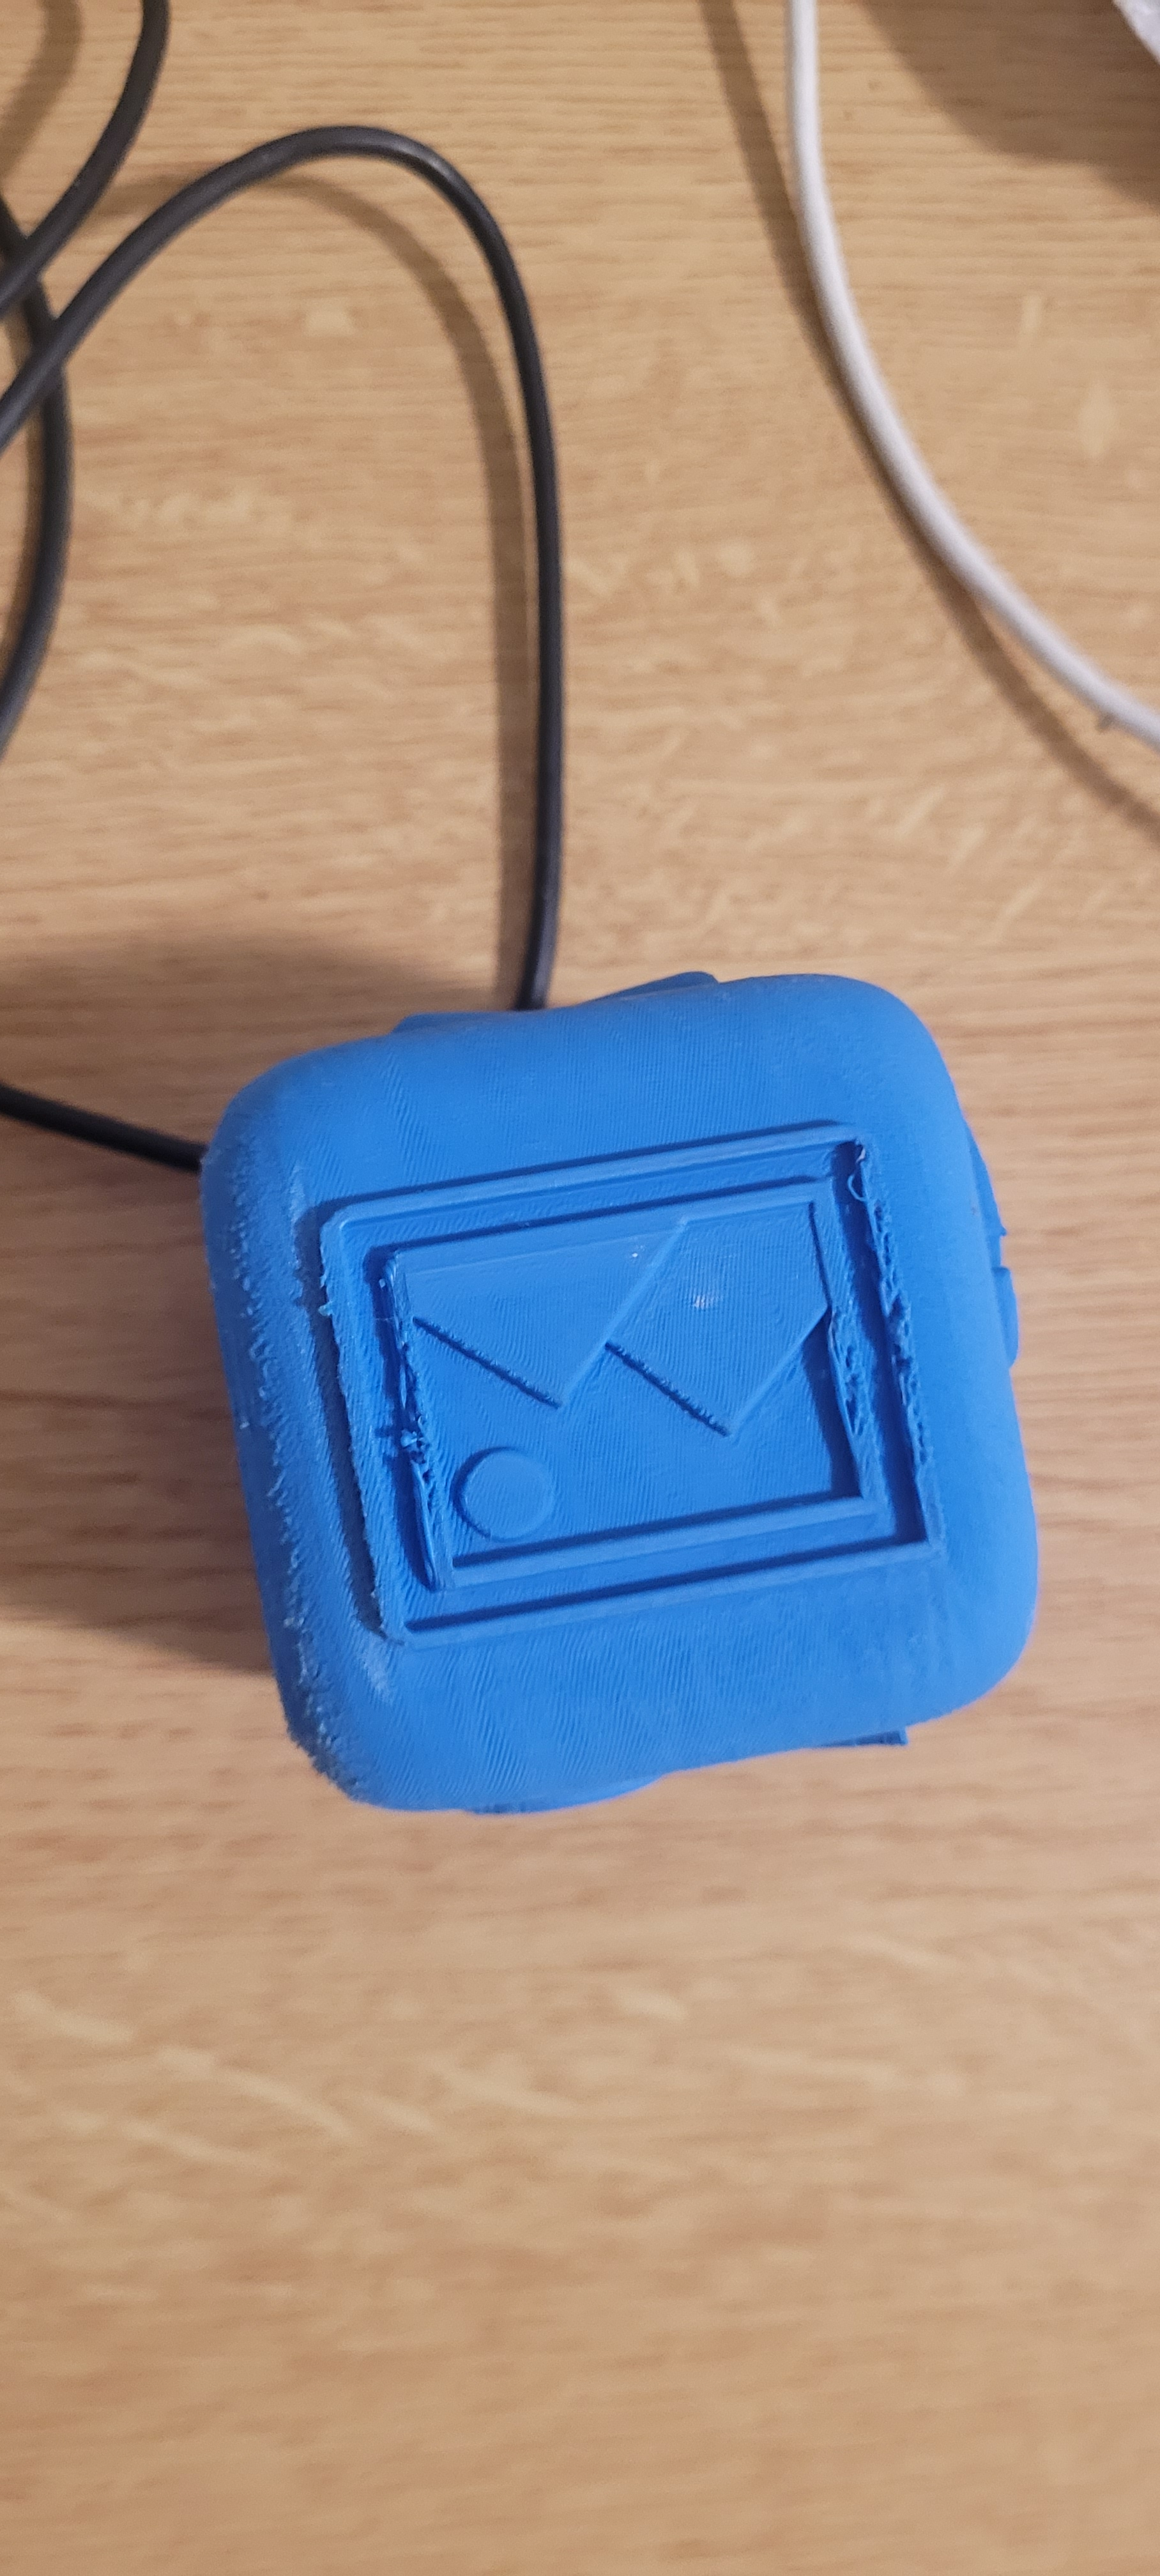Story: (255, 1037, 900, 1709)
